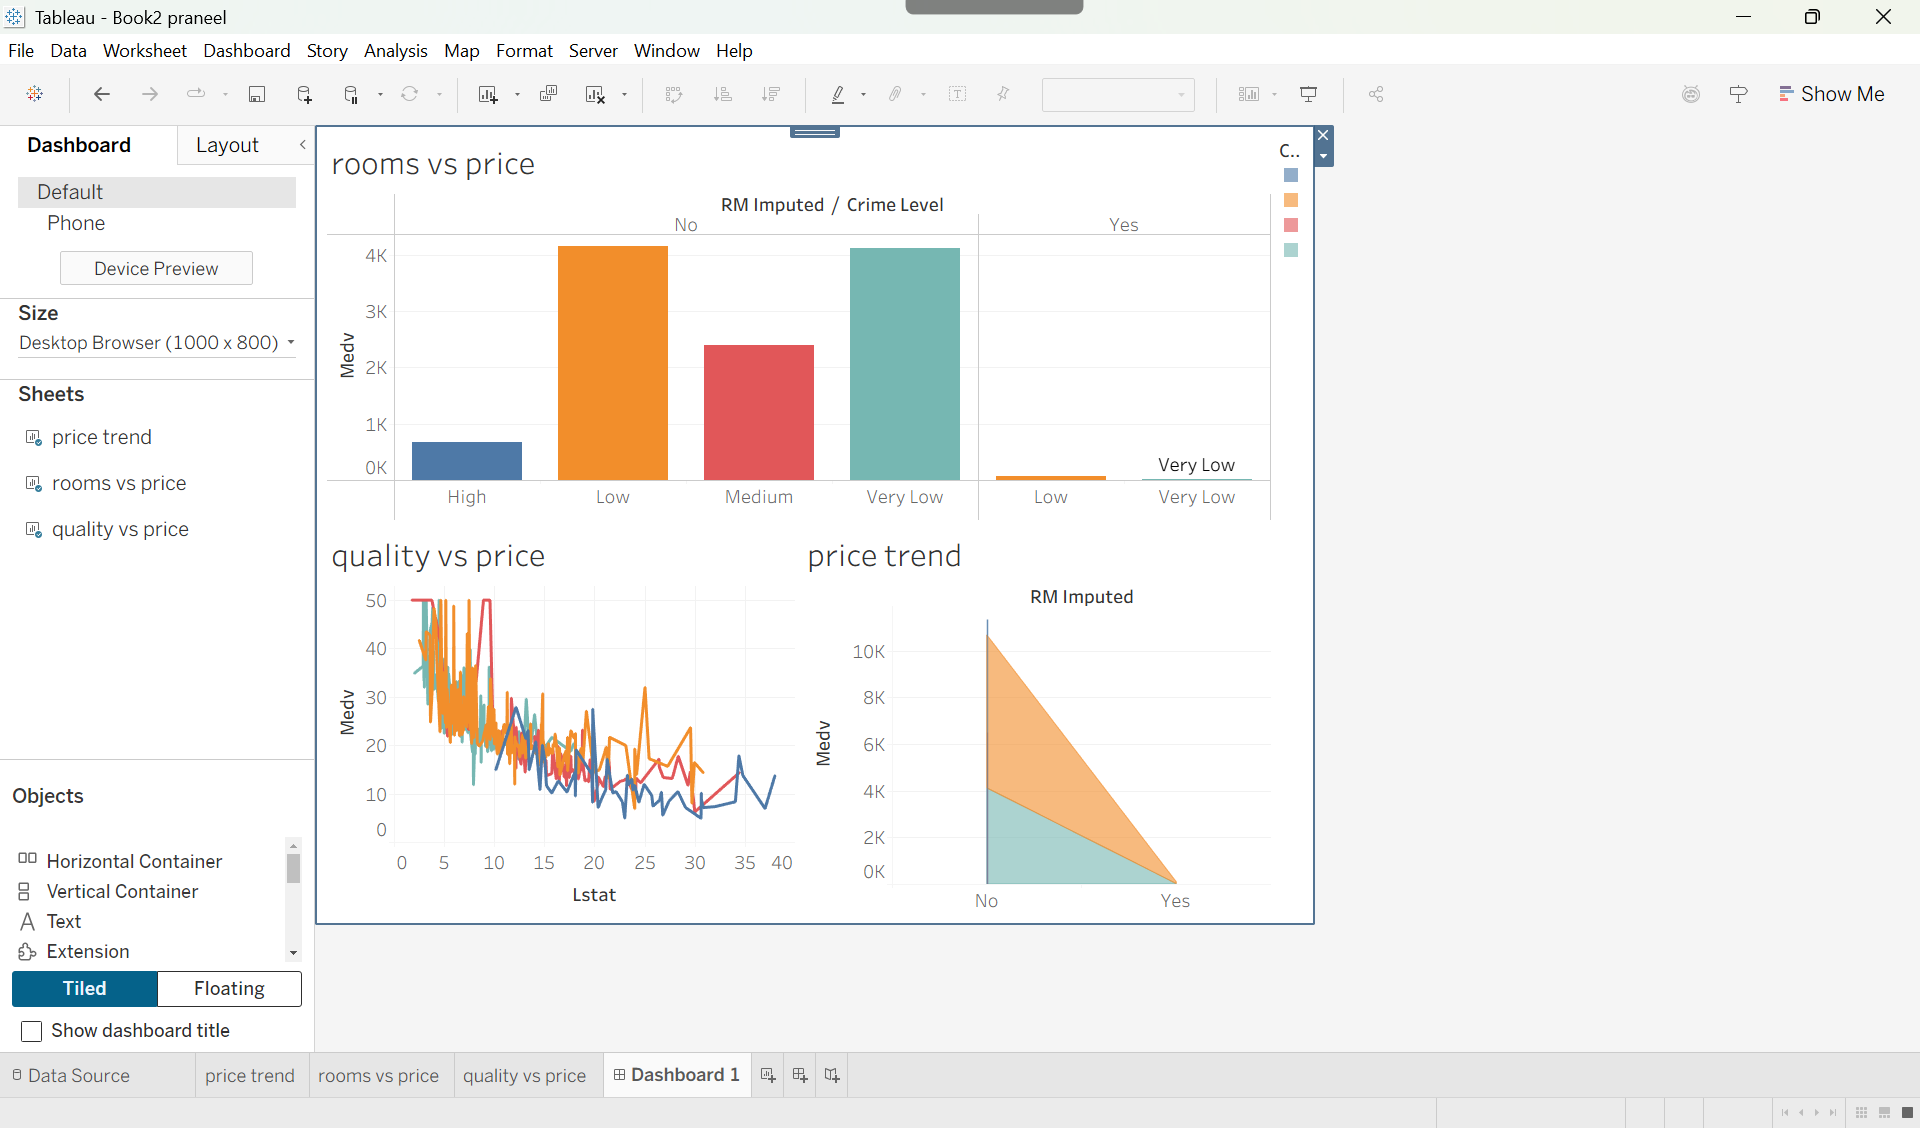

Layout of this report page (visuals, bound fields, positions):
{"tool":"tableau","page":{"name":"Dashboard 1","canvas":[1000,800],"ordinal":0},"visuals":[{"type":"worksheet","title":"rooms vs price","mark":"Automatic","rows":["MEDV"],"cols":["RM_Imputed","Crime_Level"],"box":[8,8,952,392]},{"type":"legend","title":"price trend","param":"[federated.1ssc2nn16k3wy11gz83uu0ekhzjt].[none:Crime_Level:nk]","box":[960,8,32,134]},{"type":"worksheet","title":"quality vs price","mark":"Line","rows":["MEDV"],"cols":["LSTAT"],"box":[8,400,476,392]},{"type":"worksheet","title":"price trend","mark":"Area","rows":["MEDV"],"cols":["RM_Imputed"],"box":[484,400,476,392]}]}

Visuals, with their boxes on the page's 1000x800 design canvas (x1, y1, x2, y2). These are canvas units, not pixel positions in the 1920x1128 screenshot, which may show the page scaled, cropped or inside an application window:
"rooms vs price" worksheet: select_region(8, 8, 960, 400)
"price trend" legend: select_region(960, 8, 992, 142)
"quality vs price" worksheet (Line marks): select_region(8, 400, 484, 792)
"price trend" worksheet (Area marks): select_region(484, 400, 960, 792)
